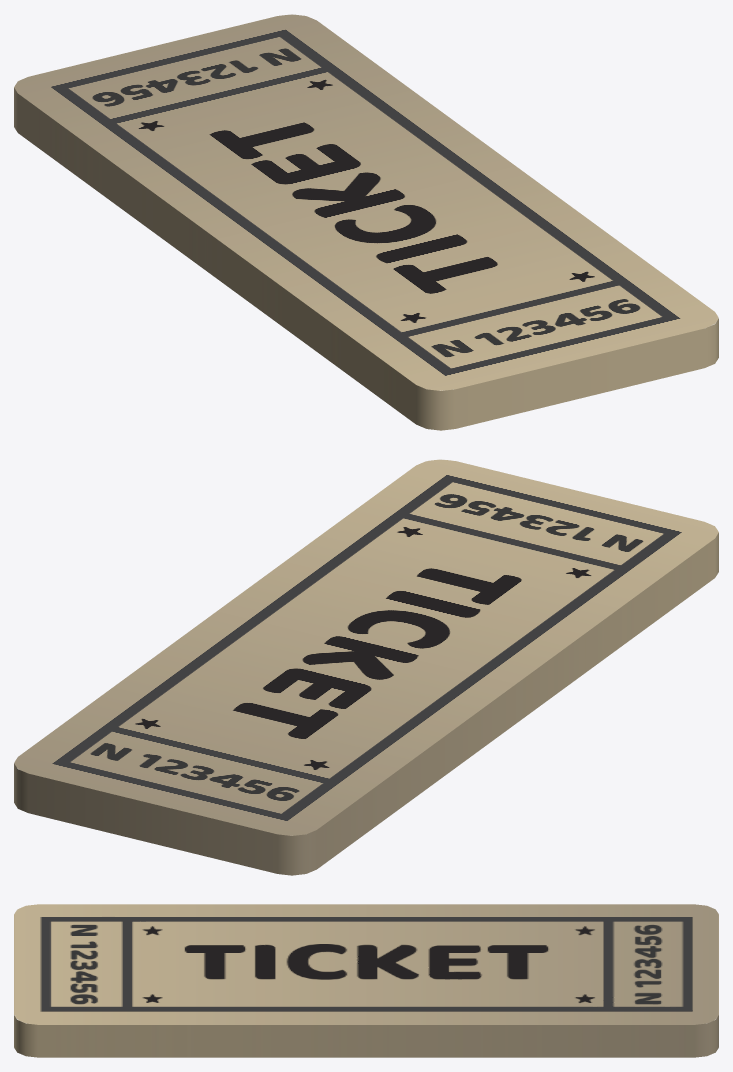
The model's file is TicketV2.fbx.
3 views of the same model, one above another, from view 1: azimuth 30°, elevation 25°; view 2: azimuth 150°, elevation 25°; view 3: azimuth 270°, elevation 25° (orthographic). The views are drawn at different scales.
Visible parts, largest first — view 1: TicketV2; view 2: TicketV2; view 3: TicketV2.
Part boxes in pixels (x1,y1,x2,y2): TicketV2: (14, 14, 718, 430); TicketV2: (14, 459, 718, 875); TicketV2: (14, 904, 718, 1057).
Size of the model in its own units: 0.1105 by 0.014 by 0.2733.
